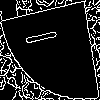I: (25, 25, 65, 48)
